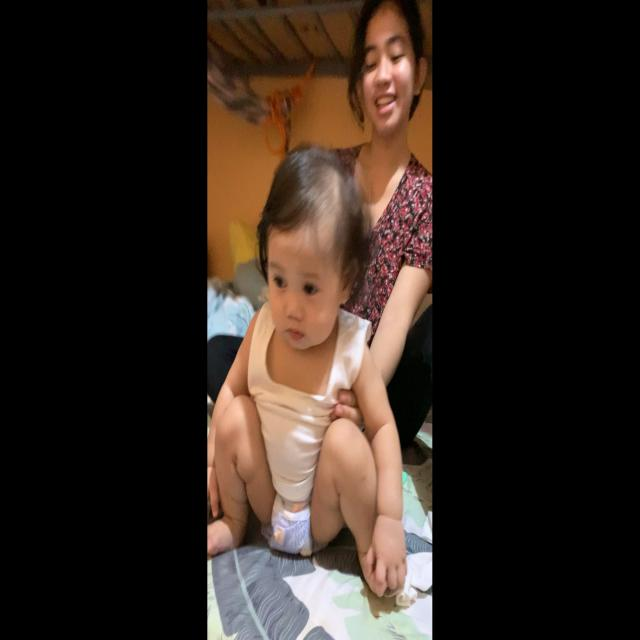adult: (208, 0, 432, 445)
child: (207, 142, 408, 600)
